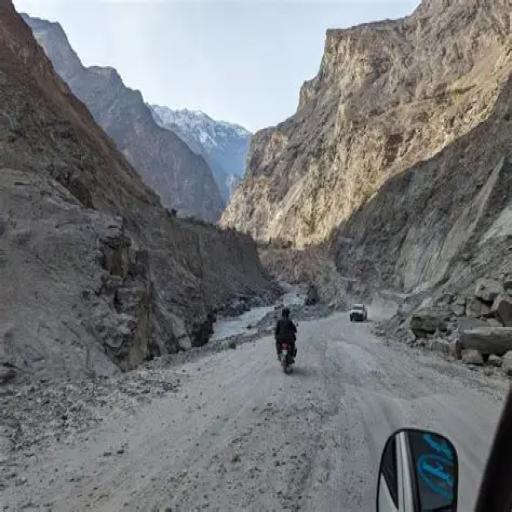Rock: (450, 310, 503, 365), (414, 290, 442, 342)
